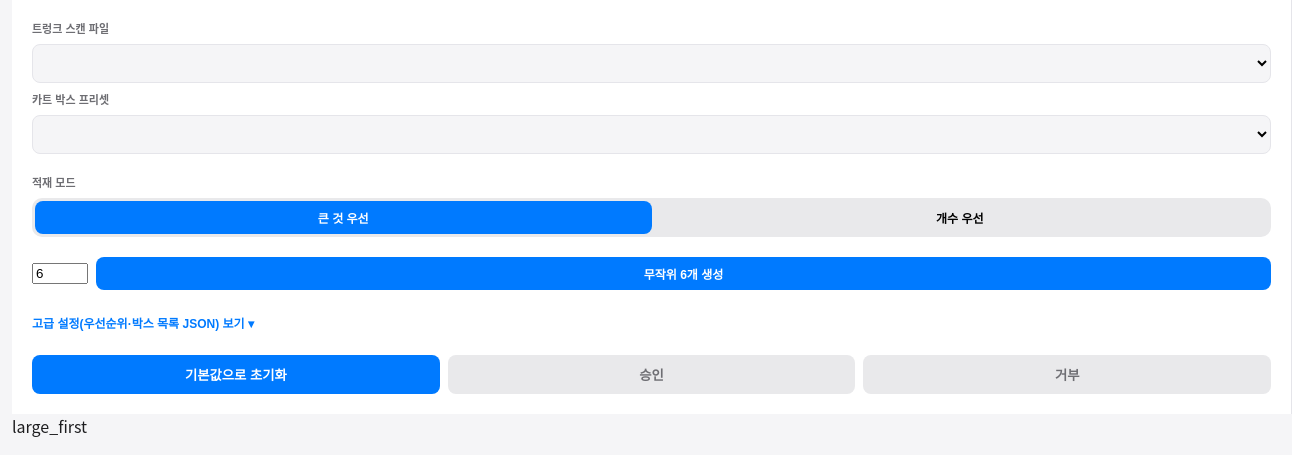
Test: ControlPanel › selecting count_first mode updates shared state
Click the button "개수 우선": x=960, y=218 [652,201,1268,234]
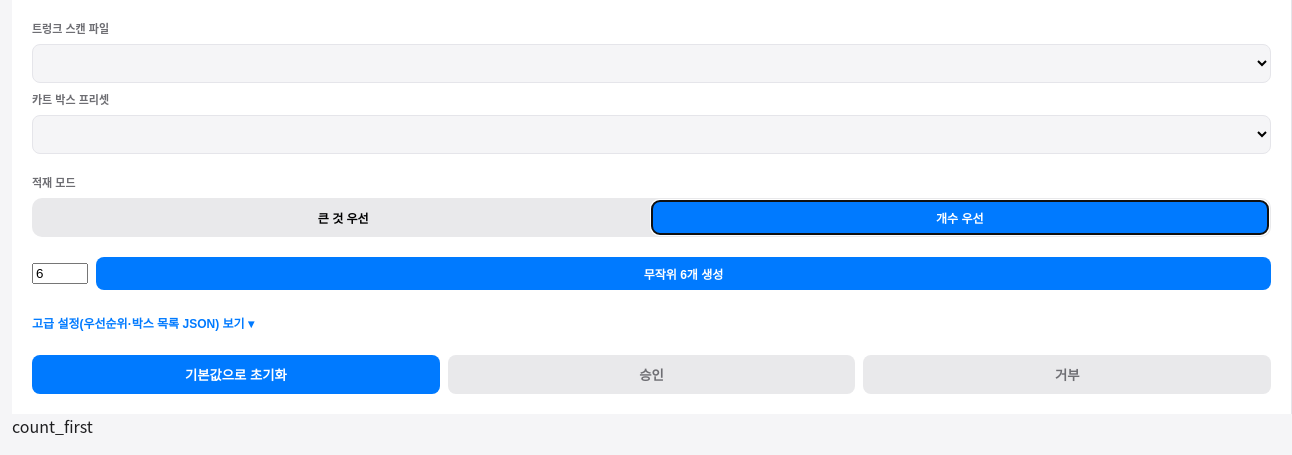
Result: the text with test id "mode" reads "count_first" at [12,414,93,438]
